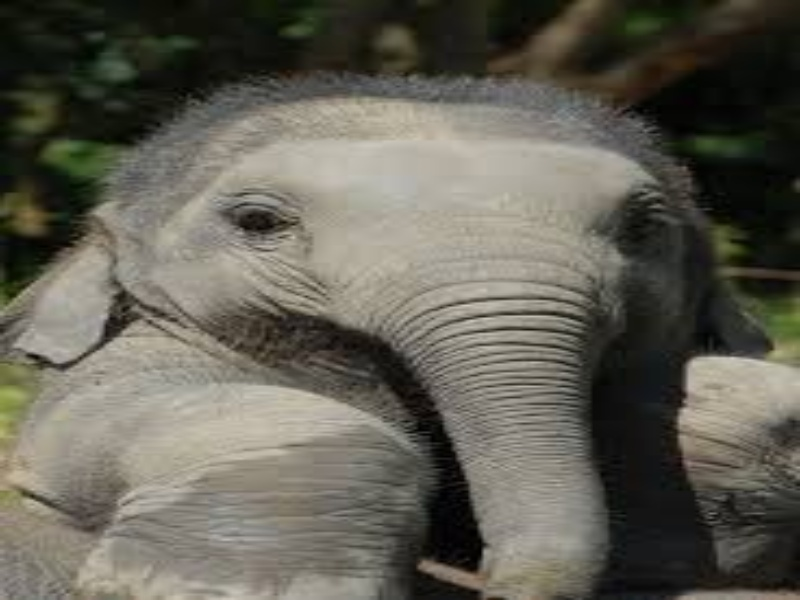elephant: (43, 79, 726, 595)
